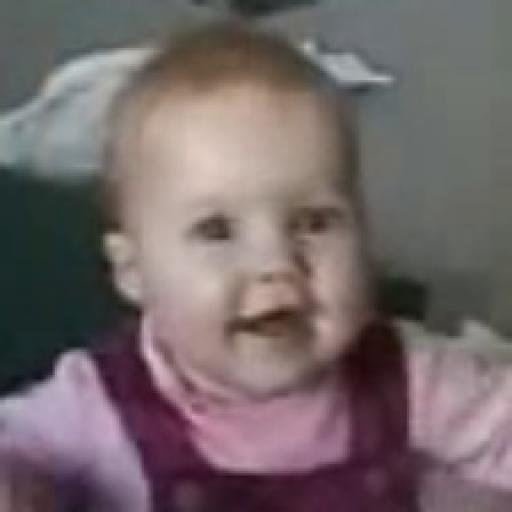Autism: (57, 18, 422, 445)
